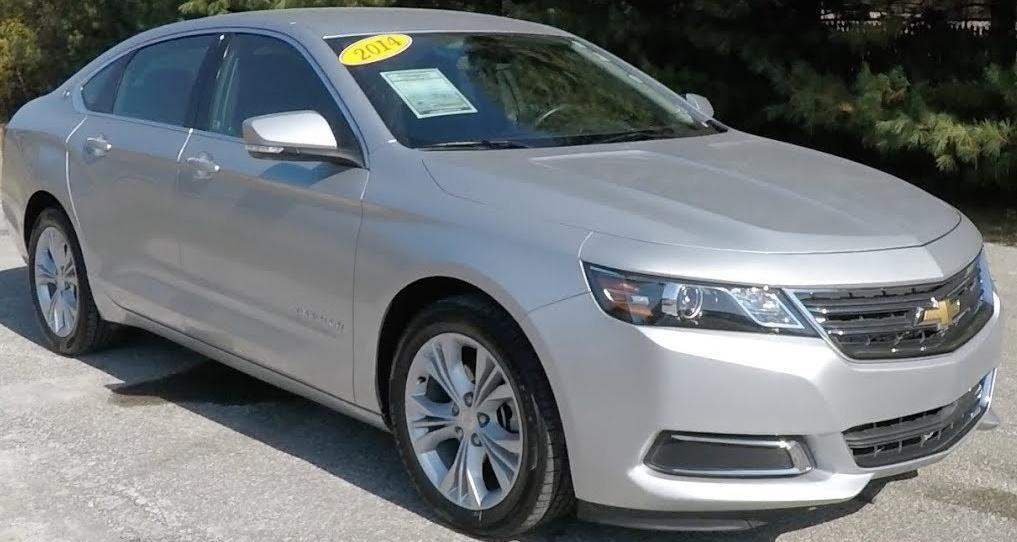Cars: (5, 11, 1004, 537)
